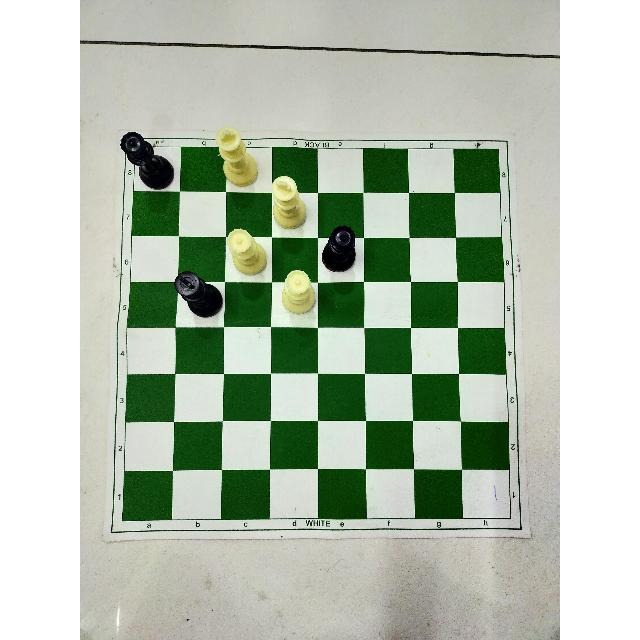black-king: (174, 270, 226, 317)
black-queen: (118, 130, 175, 190), (322, 224, 356, 272)
white-king: (212, 124, 261, 189), (270, 174, 309, 234)
white-queen: (223, 224, 272, 274), (276, 267, 319, 316)
